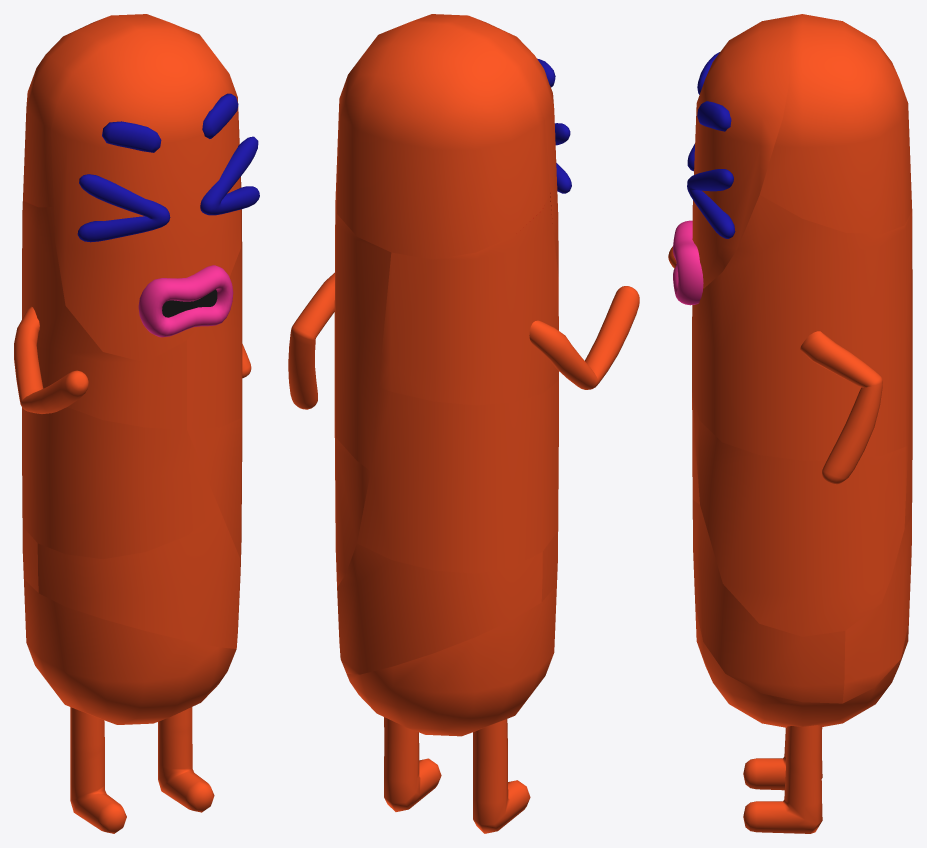
Rendered from New base cut nhieu manh.fbx.
3 renders of one model, left to right at view 1: azimuth 30°, elevation 25°; view 2: azimuth 150°, elevation 25°; view 3: azimuth 270°, elevation 25°, orthographic.
Parts seen in each view (by area): view 1: polySurface16438, polySurface16454, polySurface16445, polySurface16443, polySurface16452, face3, polySurface16440, polySurface16442, polySurface16447, polySurface16450; view 2: polySurface16440, polySurface16445, polySurface16443, polySurface16454, polySurface16450, polySurface16442, polySurface16438, polySurface16447, face3, polySurface16452; view 3: polySurface16442, polySurface16447, polySurface16440, polySurface16438, polySurface16452, polySurface16454, polySurface16450, face3, polySurface16445.
Part boxes in pixels (box(x1,y1,x2,y2)): polySurface16438: box(51, 29, 241, 362); polySurface16454: box(24, 579, 236, 833); polySurface16445: box(22, 407, 220, 559); polySurface16443: box(14, 201, 186, 429); polySurface16452: box(37, 511, 240, 648); face3: box(77, 93, 259, 337); polySurface16440: box(23, 14, 204, 207); polySurface16442: box(187, 177, 251, 429); polySurface16447: box(187, 406, 242, 566); polySurface16450: box(22, 527, 38, 592); polySurface16440: box(336, 19, 550, 259); polySurface16445: box(357, 380, 558, 573); polySurface16443: box(378, 193, 639, 405); polySurface16454: box(346, 585, 556, 833); polySurface16450: box(337, 543, 542, 674); polySurface16442: box(288, 188, 391, 470); polySurface16438: box(417, 14, 558, 276); polySurface16447: box(334, 416, 370, 587); face3: box(537, 58, 571, 193); polySurface16452: box(541, 531, 558, 601); polySurface16442: box(692, 195, 912, 484); polySurface16447: box(692, 394, 908, 636); polySurface16440: box(759, 14, 912, 233); polySurface16438: box(692, 16, 790, 288); polySurface16452: box(692, 499, 845, 703); polySurface16454: box(695, 607, 908, 833); polySurface16450: box(842, 516, 911, 703); face3: box(673, 52, 735, 305); polySurface16445: box(692, 349, 912, 528).
Bounding box in the file's own units: 145 × 410 × 116.
